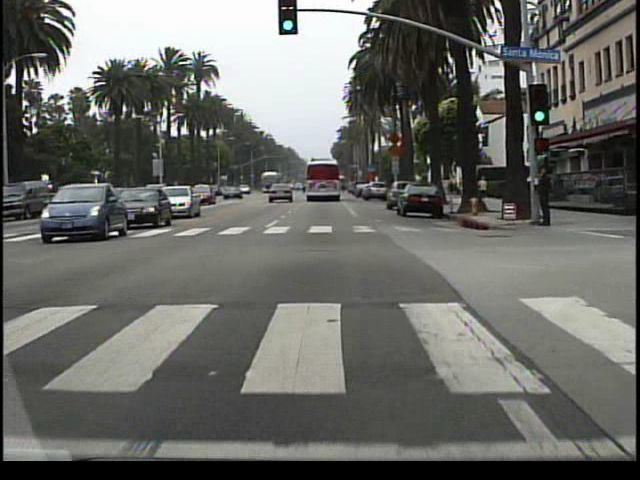person: (532, 160, 552, 229)
